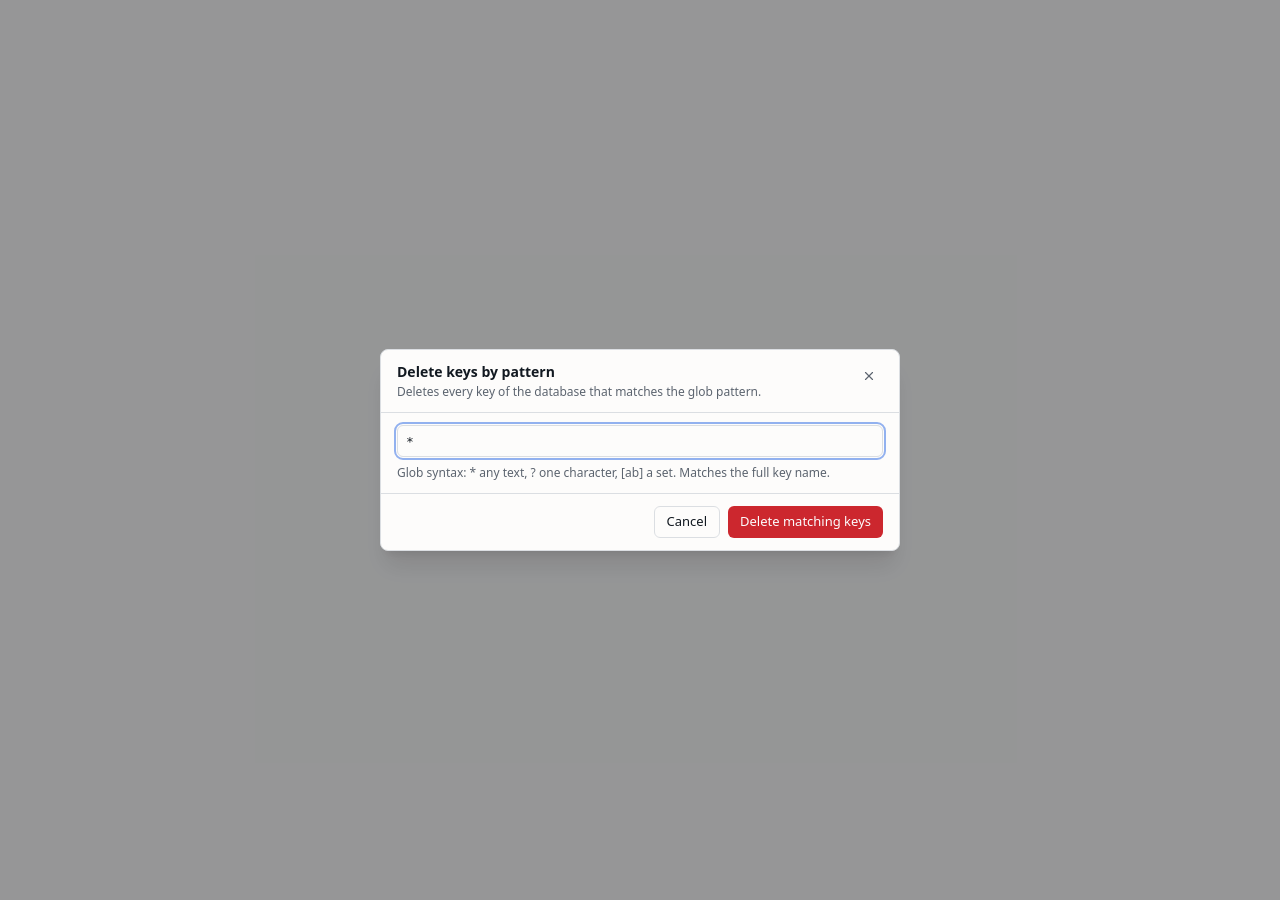
Test: DeleteByPatternDialog › declining the whole-database confirmation deletes nothing
This screenshot has width=1280, height=900.
Step 1. Click the button "Delete matching keys" → point(806, 522), box [728,506,883,538]
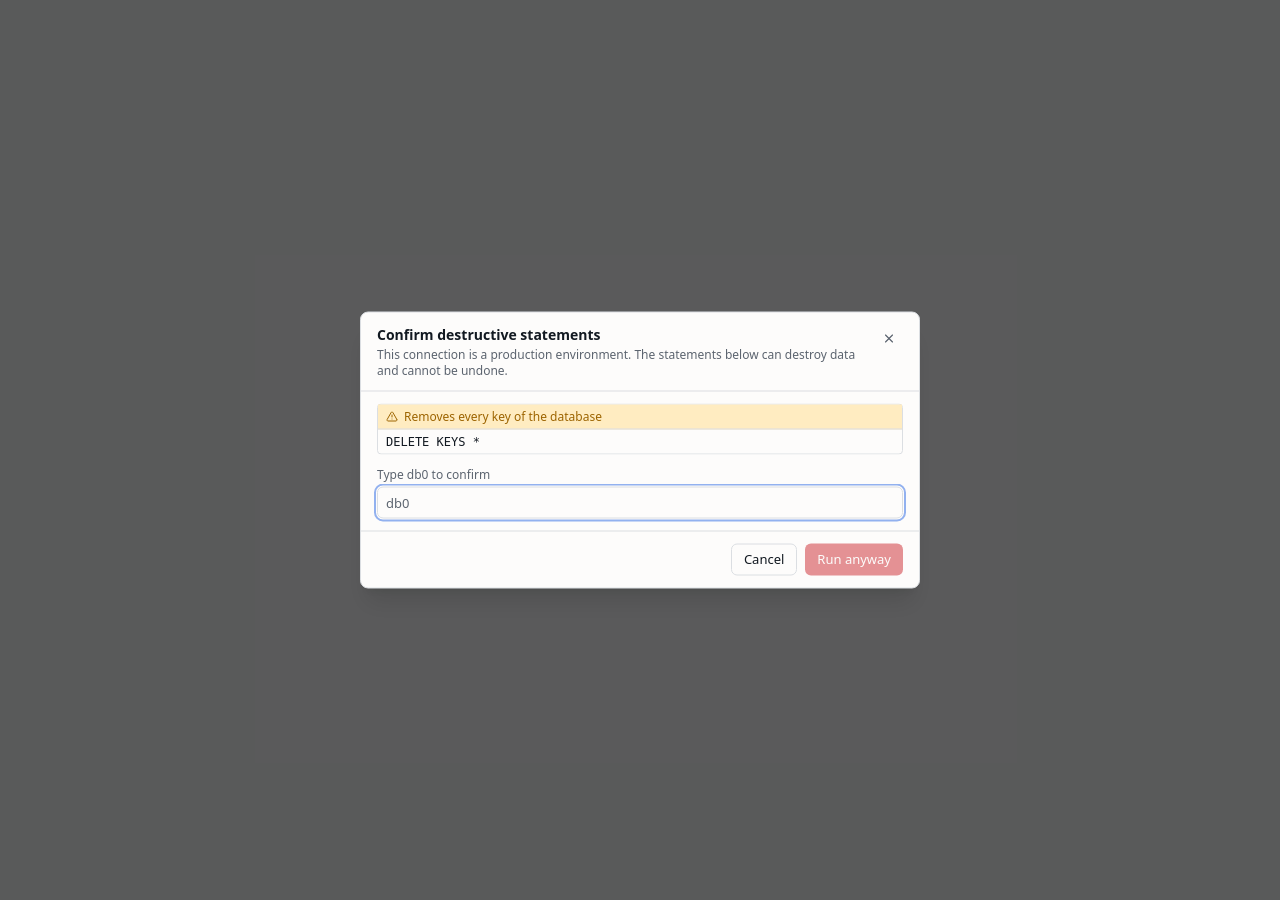
Expected: the button "Run anyway" is shown, [805,544,903,576]
Step 2. Click the button "Cancel" → point(764, 560), box [731,544,797,576]
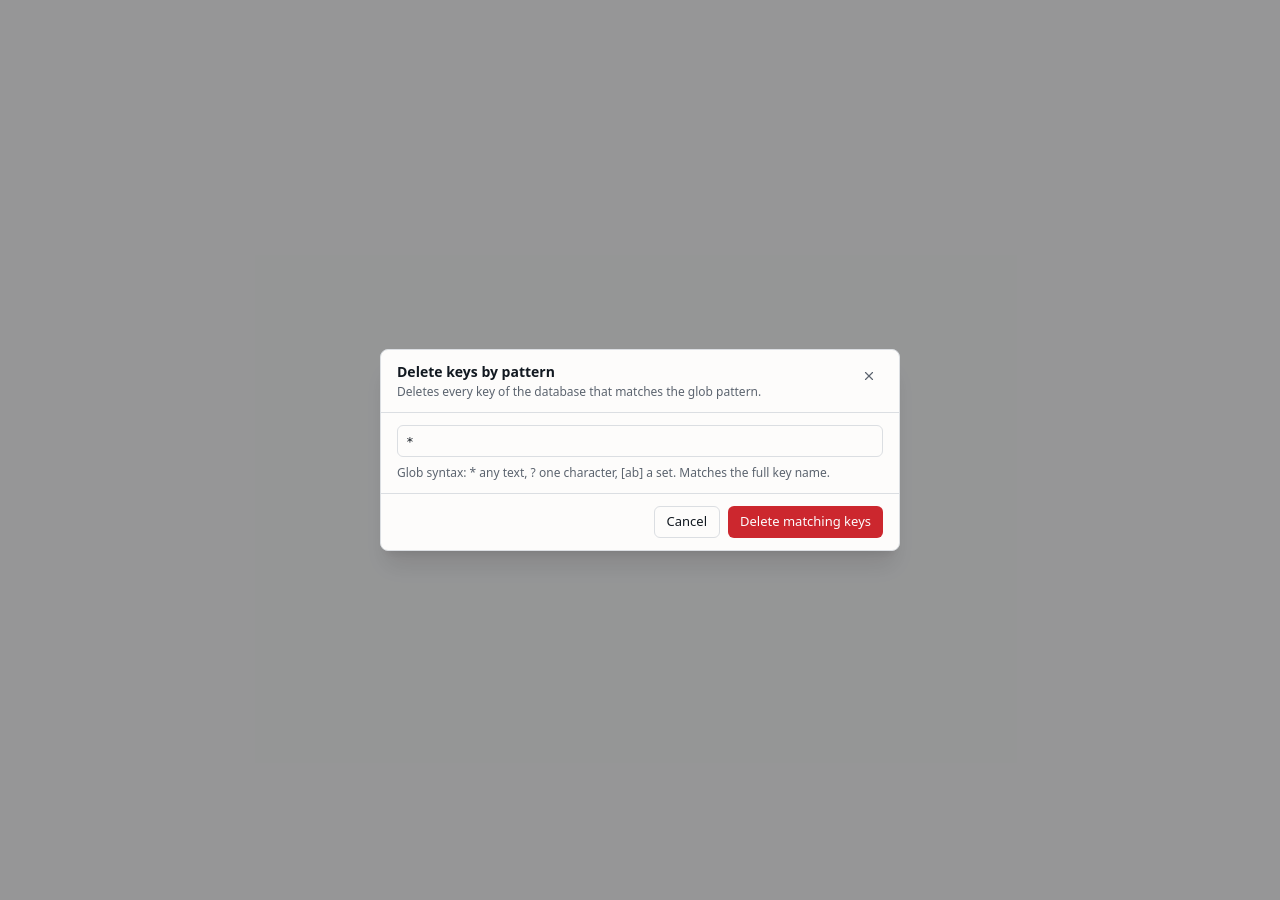
Expected: the button "Run anyway" is gone
Expected: the button "Delete matching keys" is enabled, [728,506,883,538]
